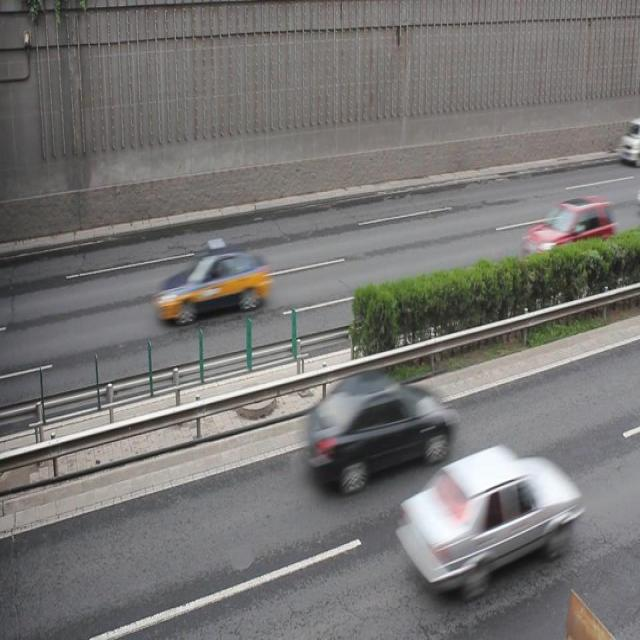car: (399, 442, 579, 596), (304, 369, 454, 488), (154, 249, 272, 322), (522, 195, 613, 273)
